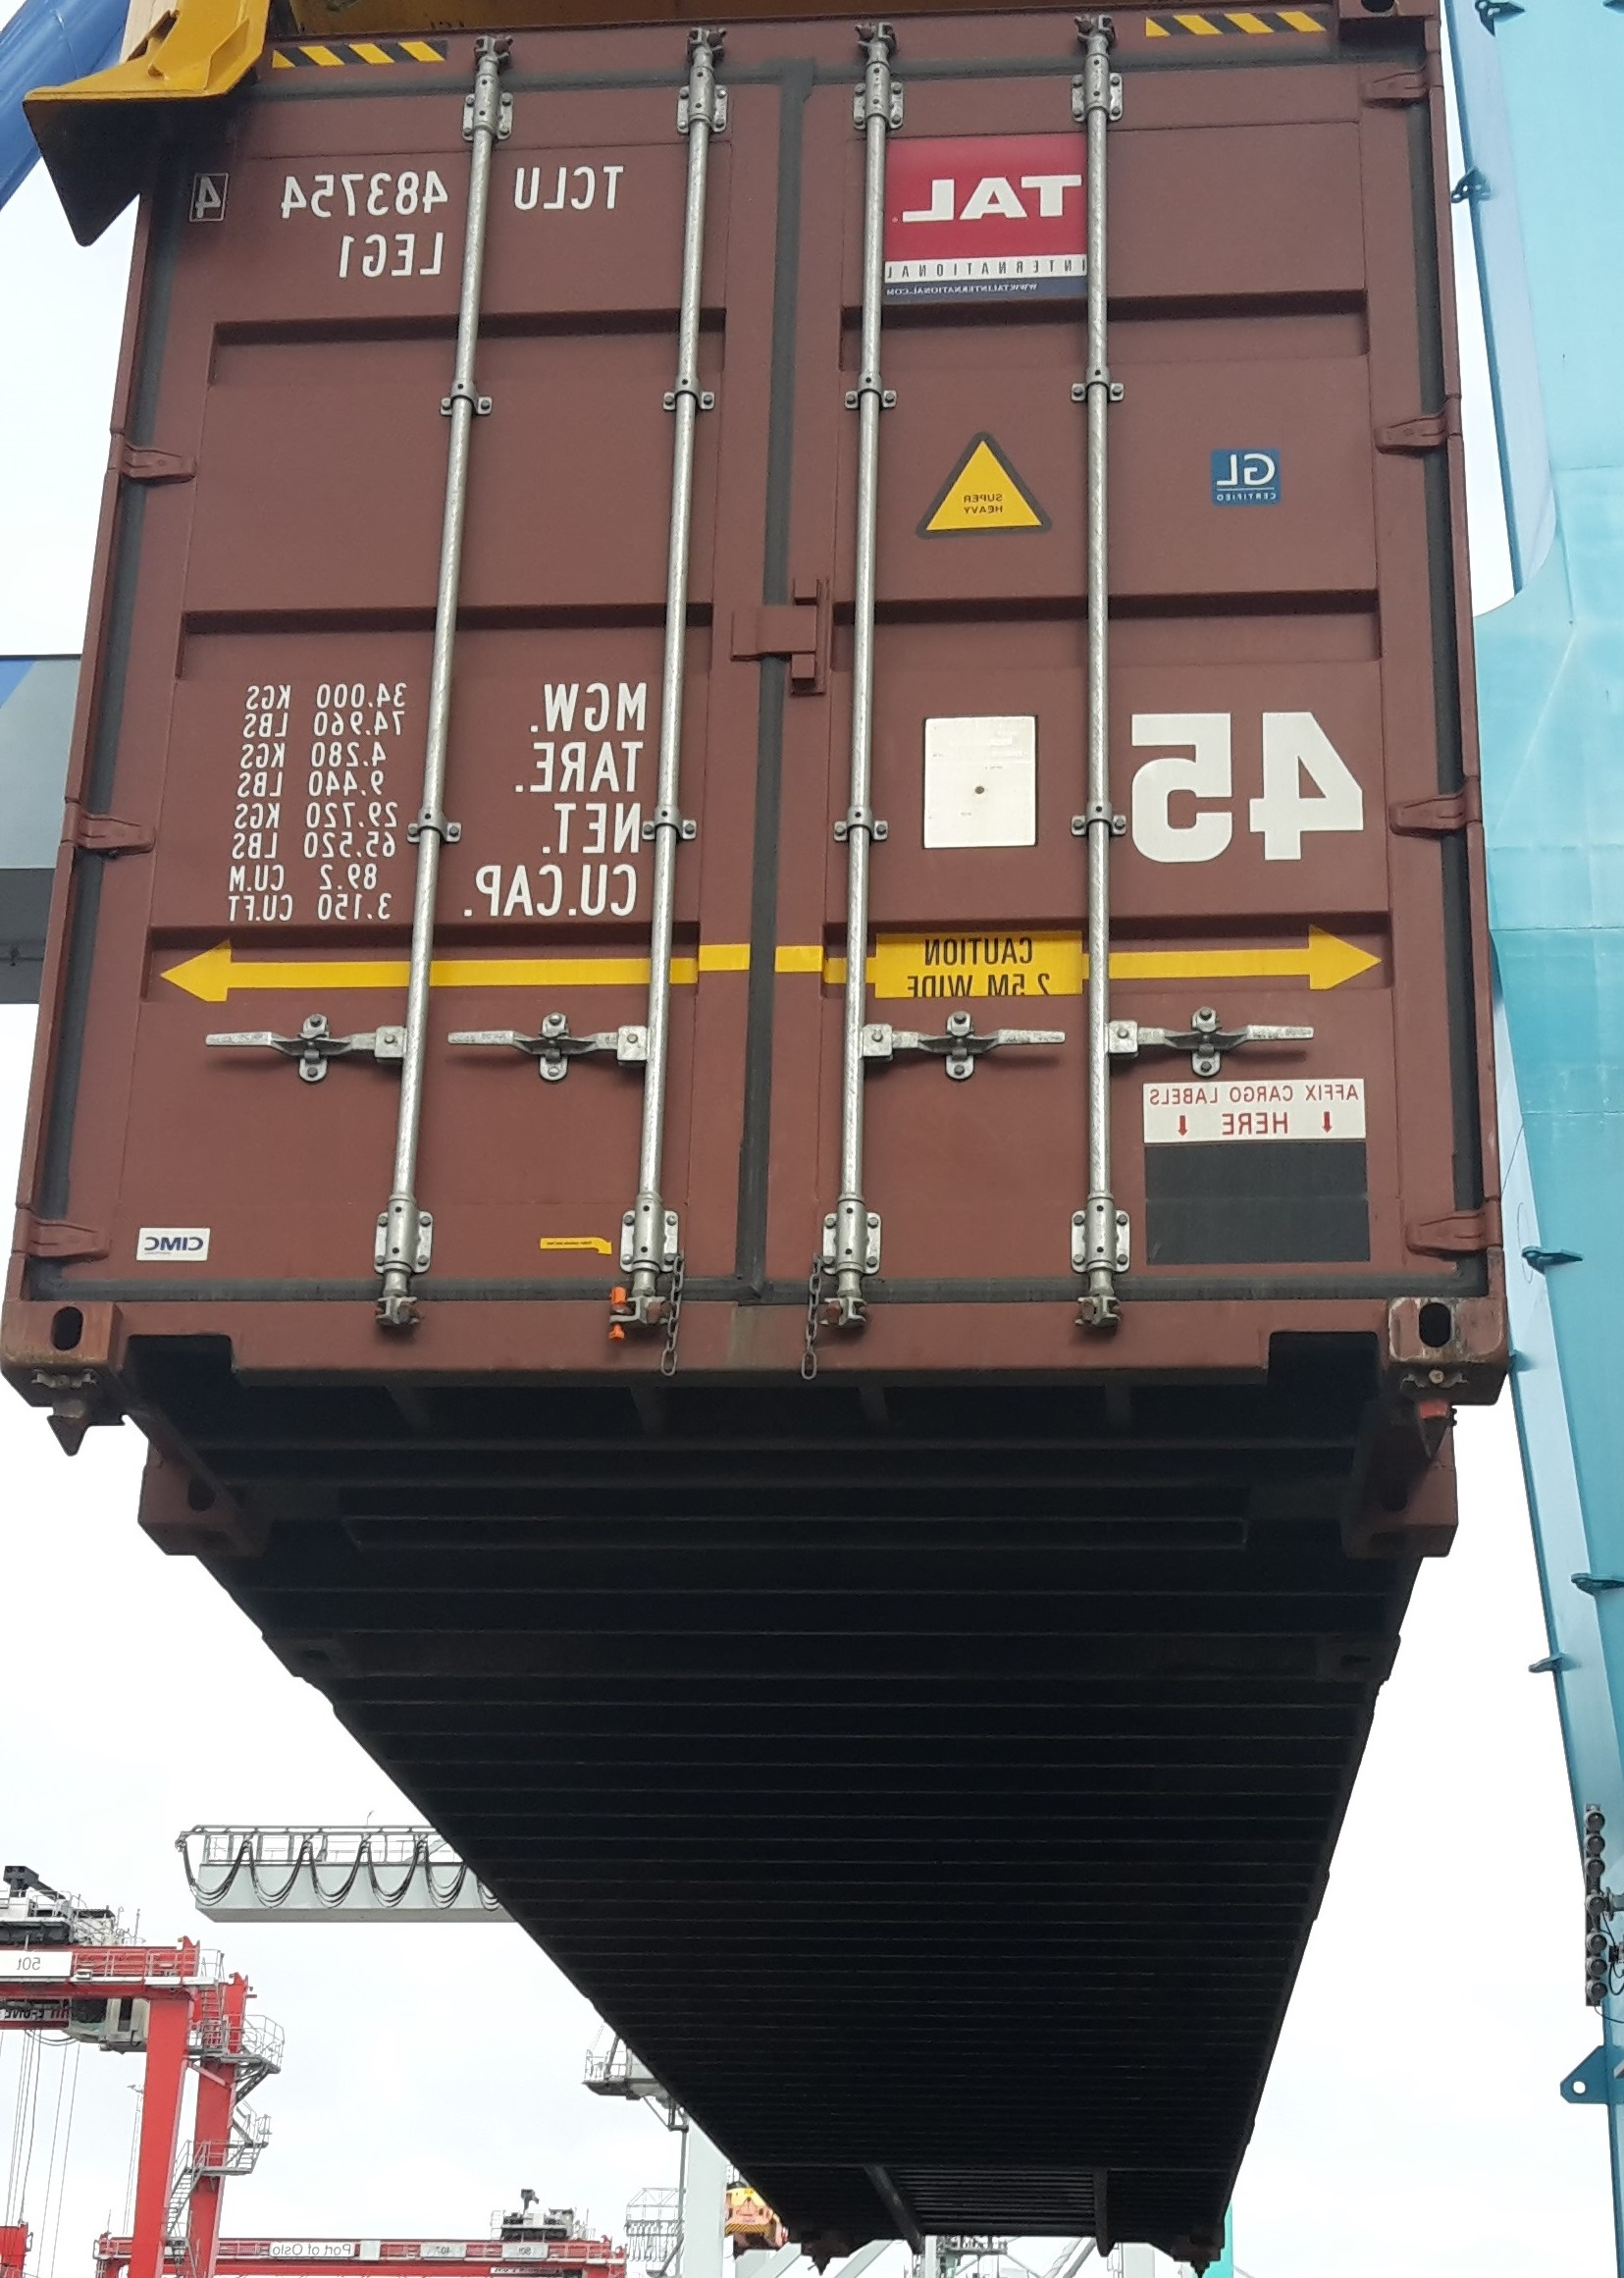container_door: (28, 2, 1494, 1352)
